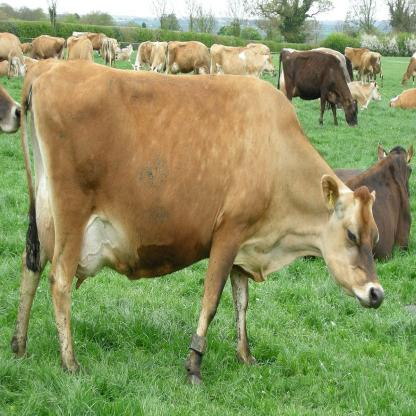cow: (12, 62, 384, 386), (333, 148, 409, 260), (279, 50, 358, 126), (212, 44, 274, 76), (167, 41, 211, 74), (346, 80, 381, 112), (0, 34, 25, 78), (28, 35, 64, 60), (356, 54, 383, 87), (67, 36, 93, 63), (401, 53, 416, 85), (102, 38, 116, 67)
